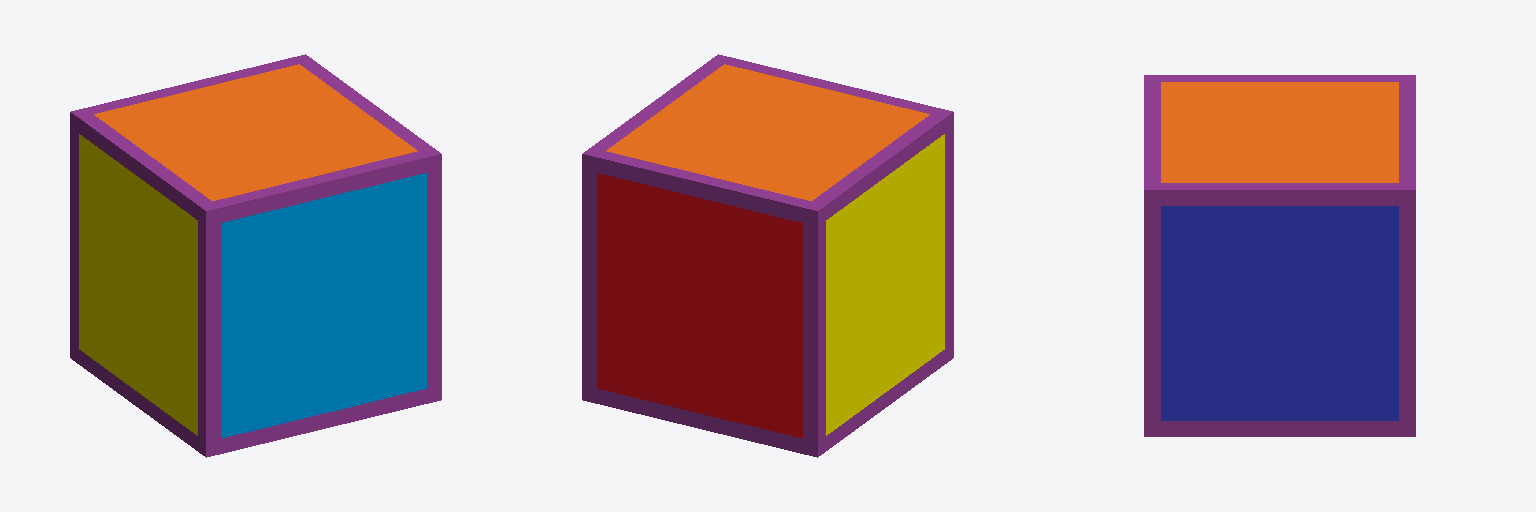
3 renders of one model, left to right at view 1: azimuth 30°, elevation 25°; view 2: azimuth 150°, elevation 25°; view 3: azimuth 270°, elevation 25°, orthographic.
Parts seen in each view (by area): view 1: runner_cube; view 2: runner_cube; view 3: runner_cube.
Boxes of the visible parts, x1=… form: runner_cube: x1=70, y1=54, x2=441, y2=457; runner_cube: x1=582, y1=54, x2=953, y2=457; runner_cube: x1=1144, y1=75, x2=1415, y2=436.
Bounding box in the file's own units: 1 × 1 × 1.
1 materials, 1 textured.